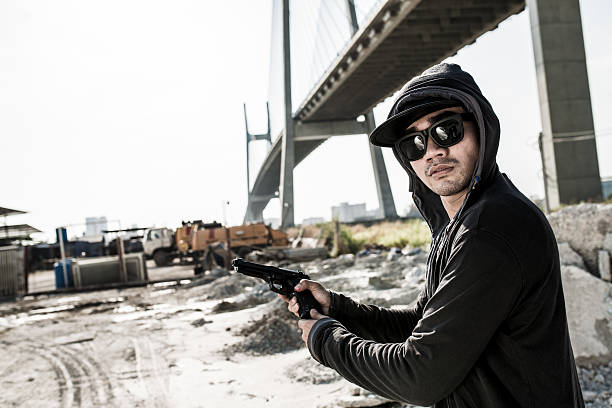gun: (232, 257, 326, 322)
